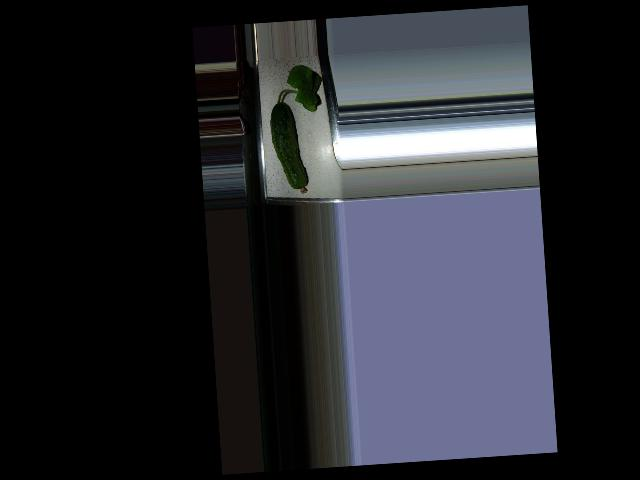cucumber: (269, 100, 308, 195)
